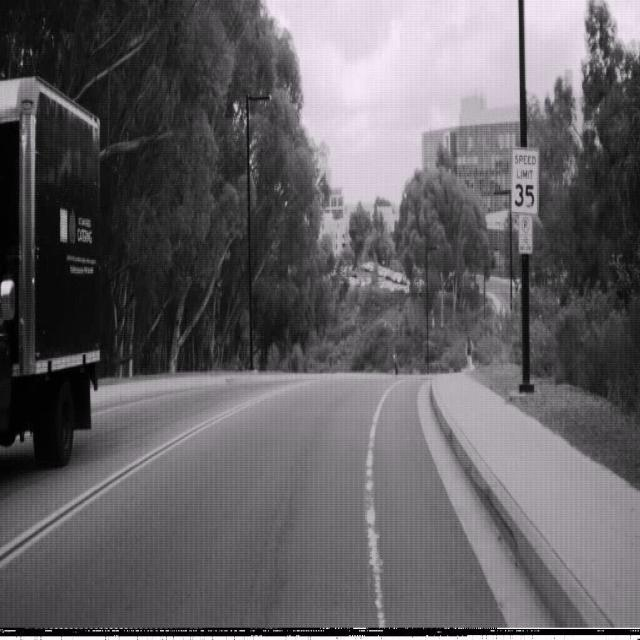speedLimit35: (510, 144, 539, 216)
